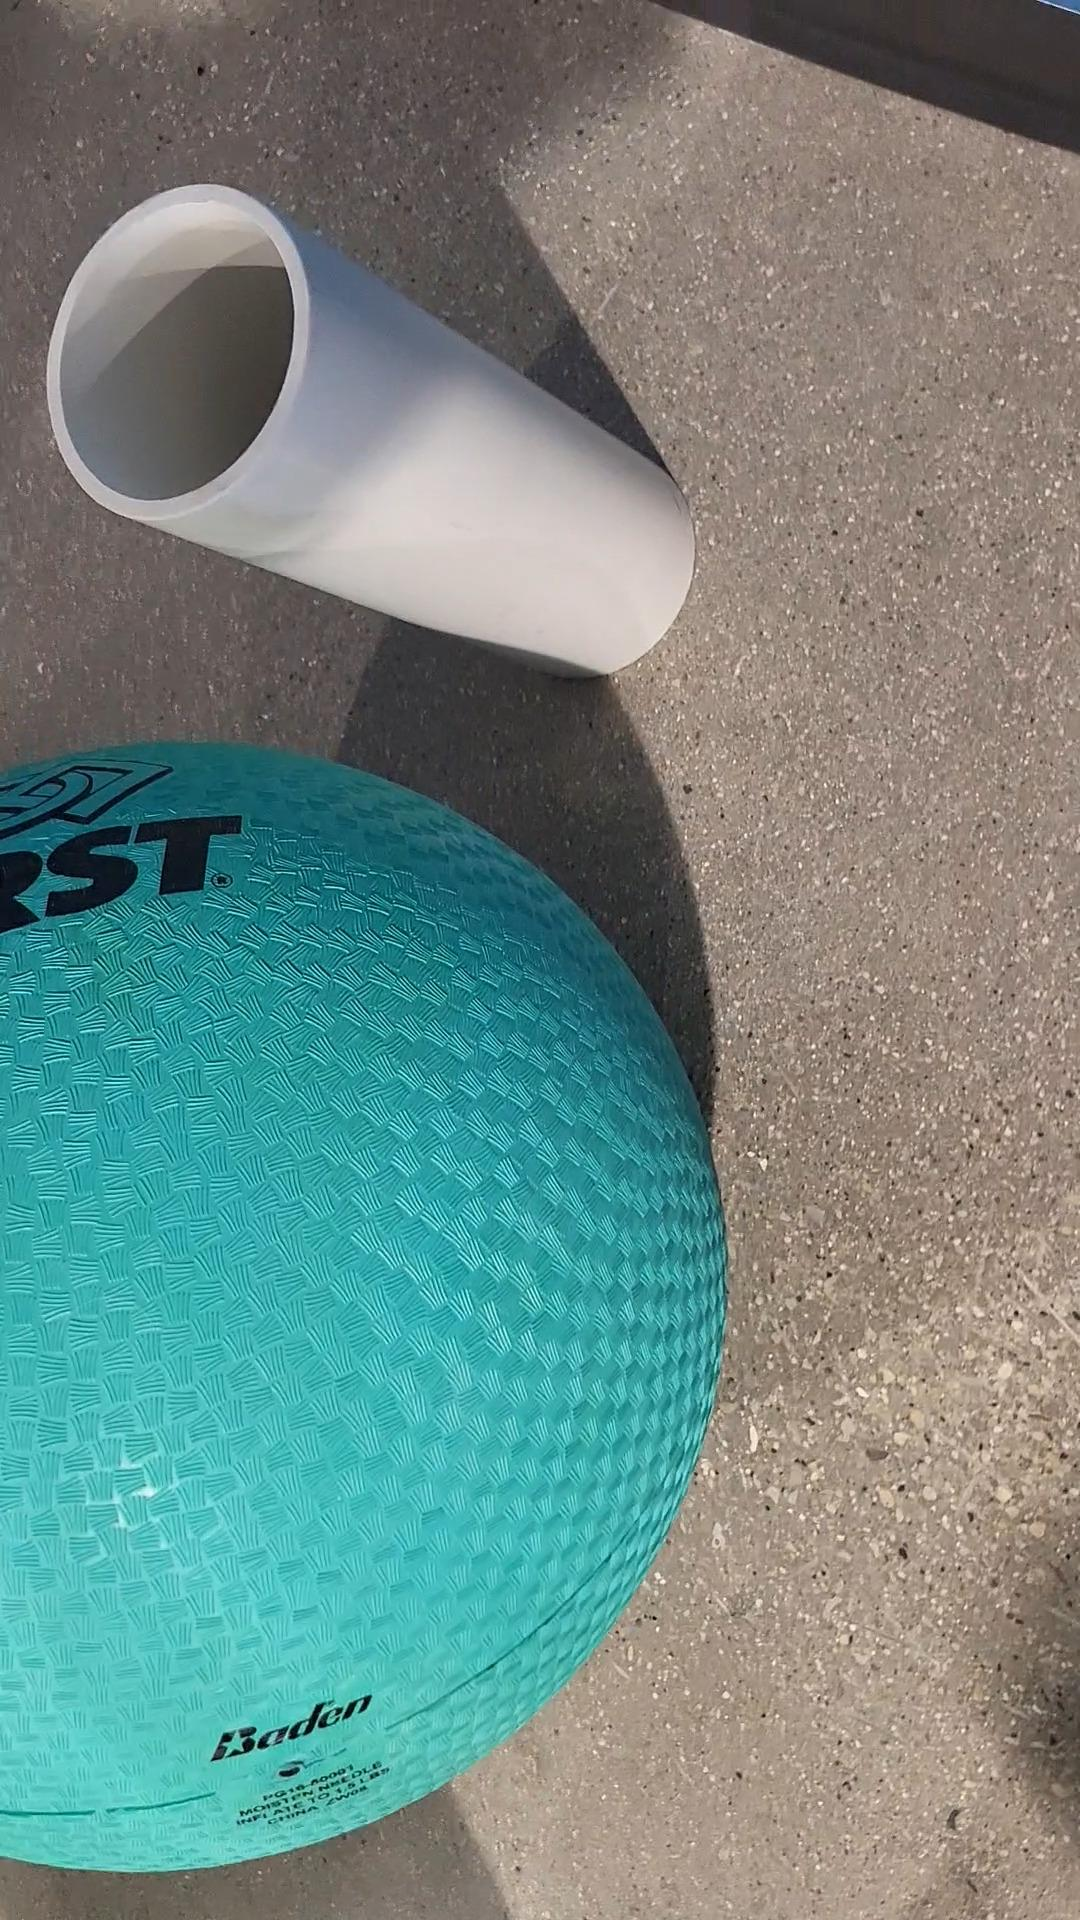algae: (0, 735, 744, 1890)
coral: (50, 190, 713, 696)
